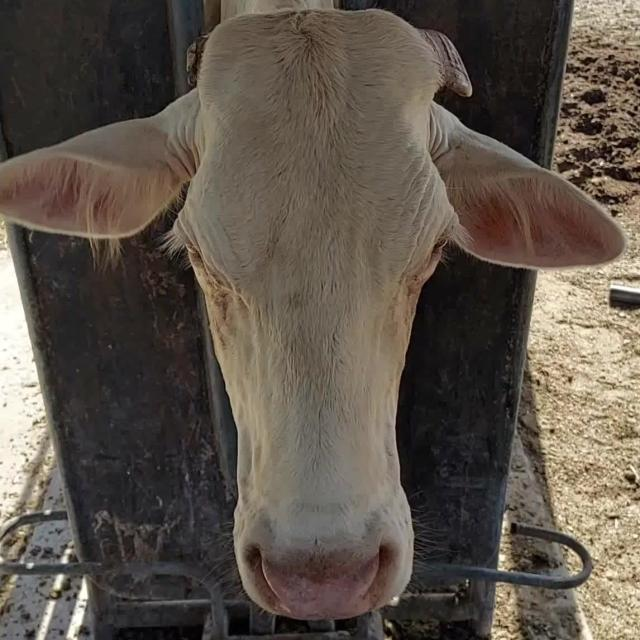cowFace: (183, 14, 454, 613)
